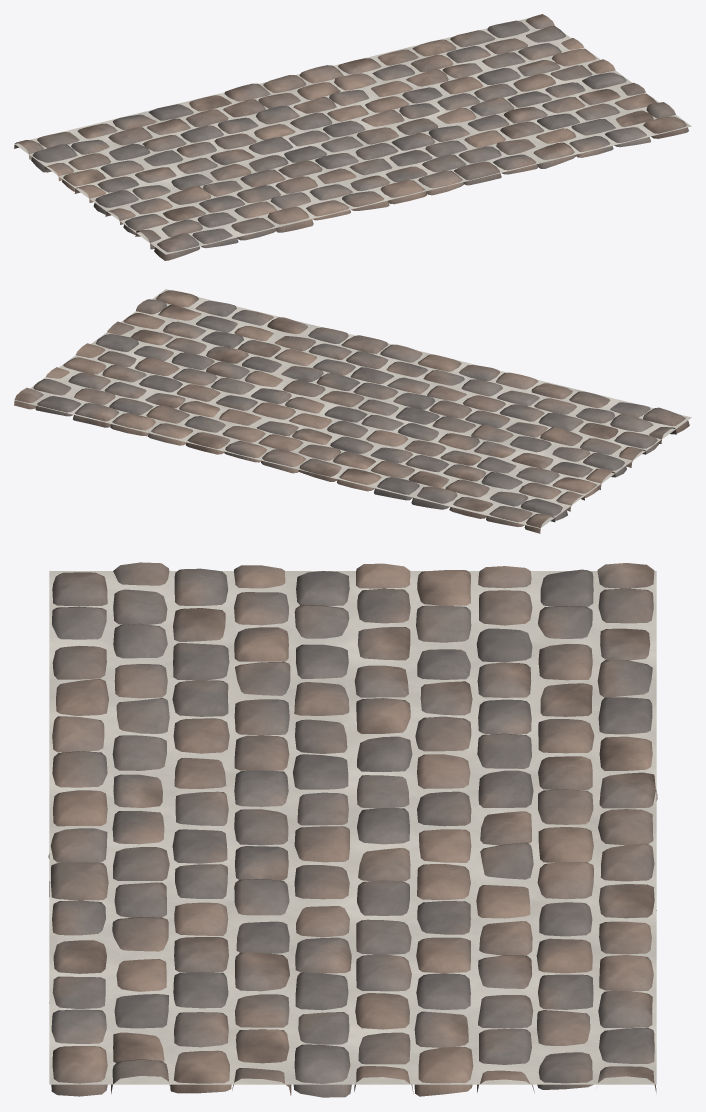
Rendered from cobble_plaza_3.glb.
The picture shows the model from 3 angles, top to bottom: view 1: azimuth 30°, elevation 25°; view 2: azimuth 150°, elevation 25°; view 3: azimuth 270°, elevation 25°; orthographic projection. The views are drawn at different scales.
Visible parts, largest first — view 1: model; view 2: model; view 3: model.
Boxes of the visible parts, box(x1,y1,x2,y2) form: model: box(14, 14, 691, 260); model: box(14, 289, 691, 533); model: box(48, 562, 657, 1097).
Bounding box in the file's own units: 4.01 × 0.1049 × 2.01.
2 materials, 2 textured.
